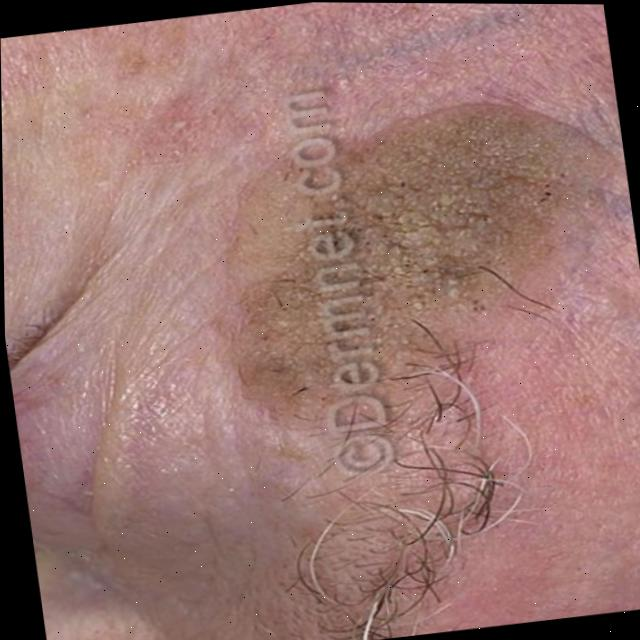Eczema: (238, 140, 542, 394)
